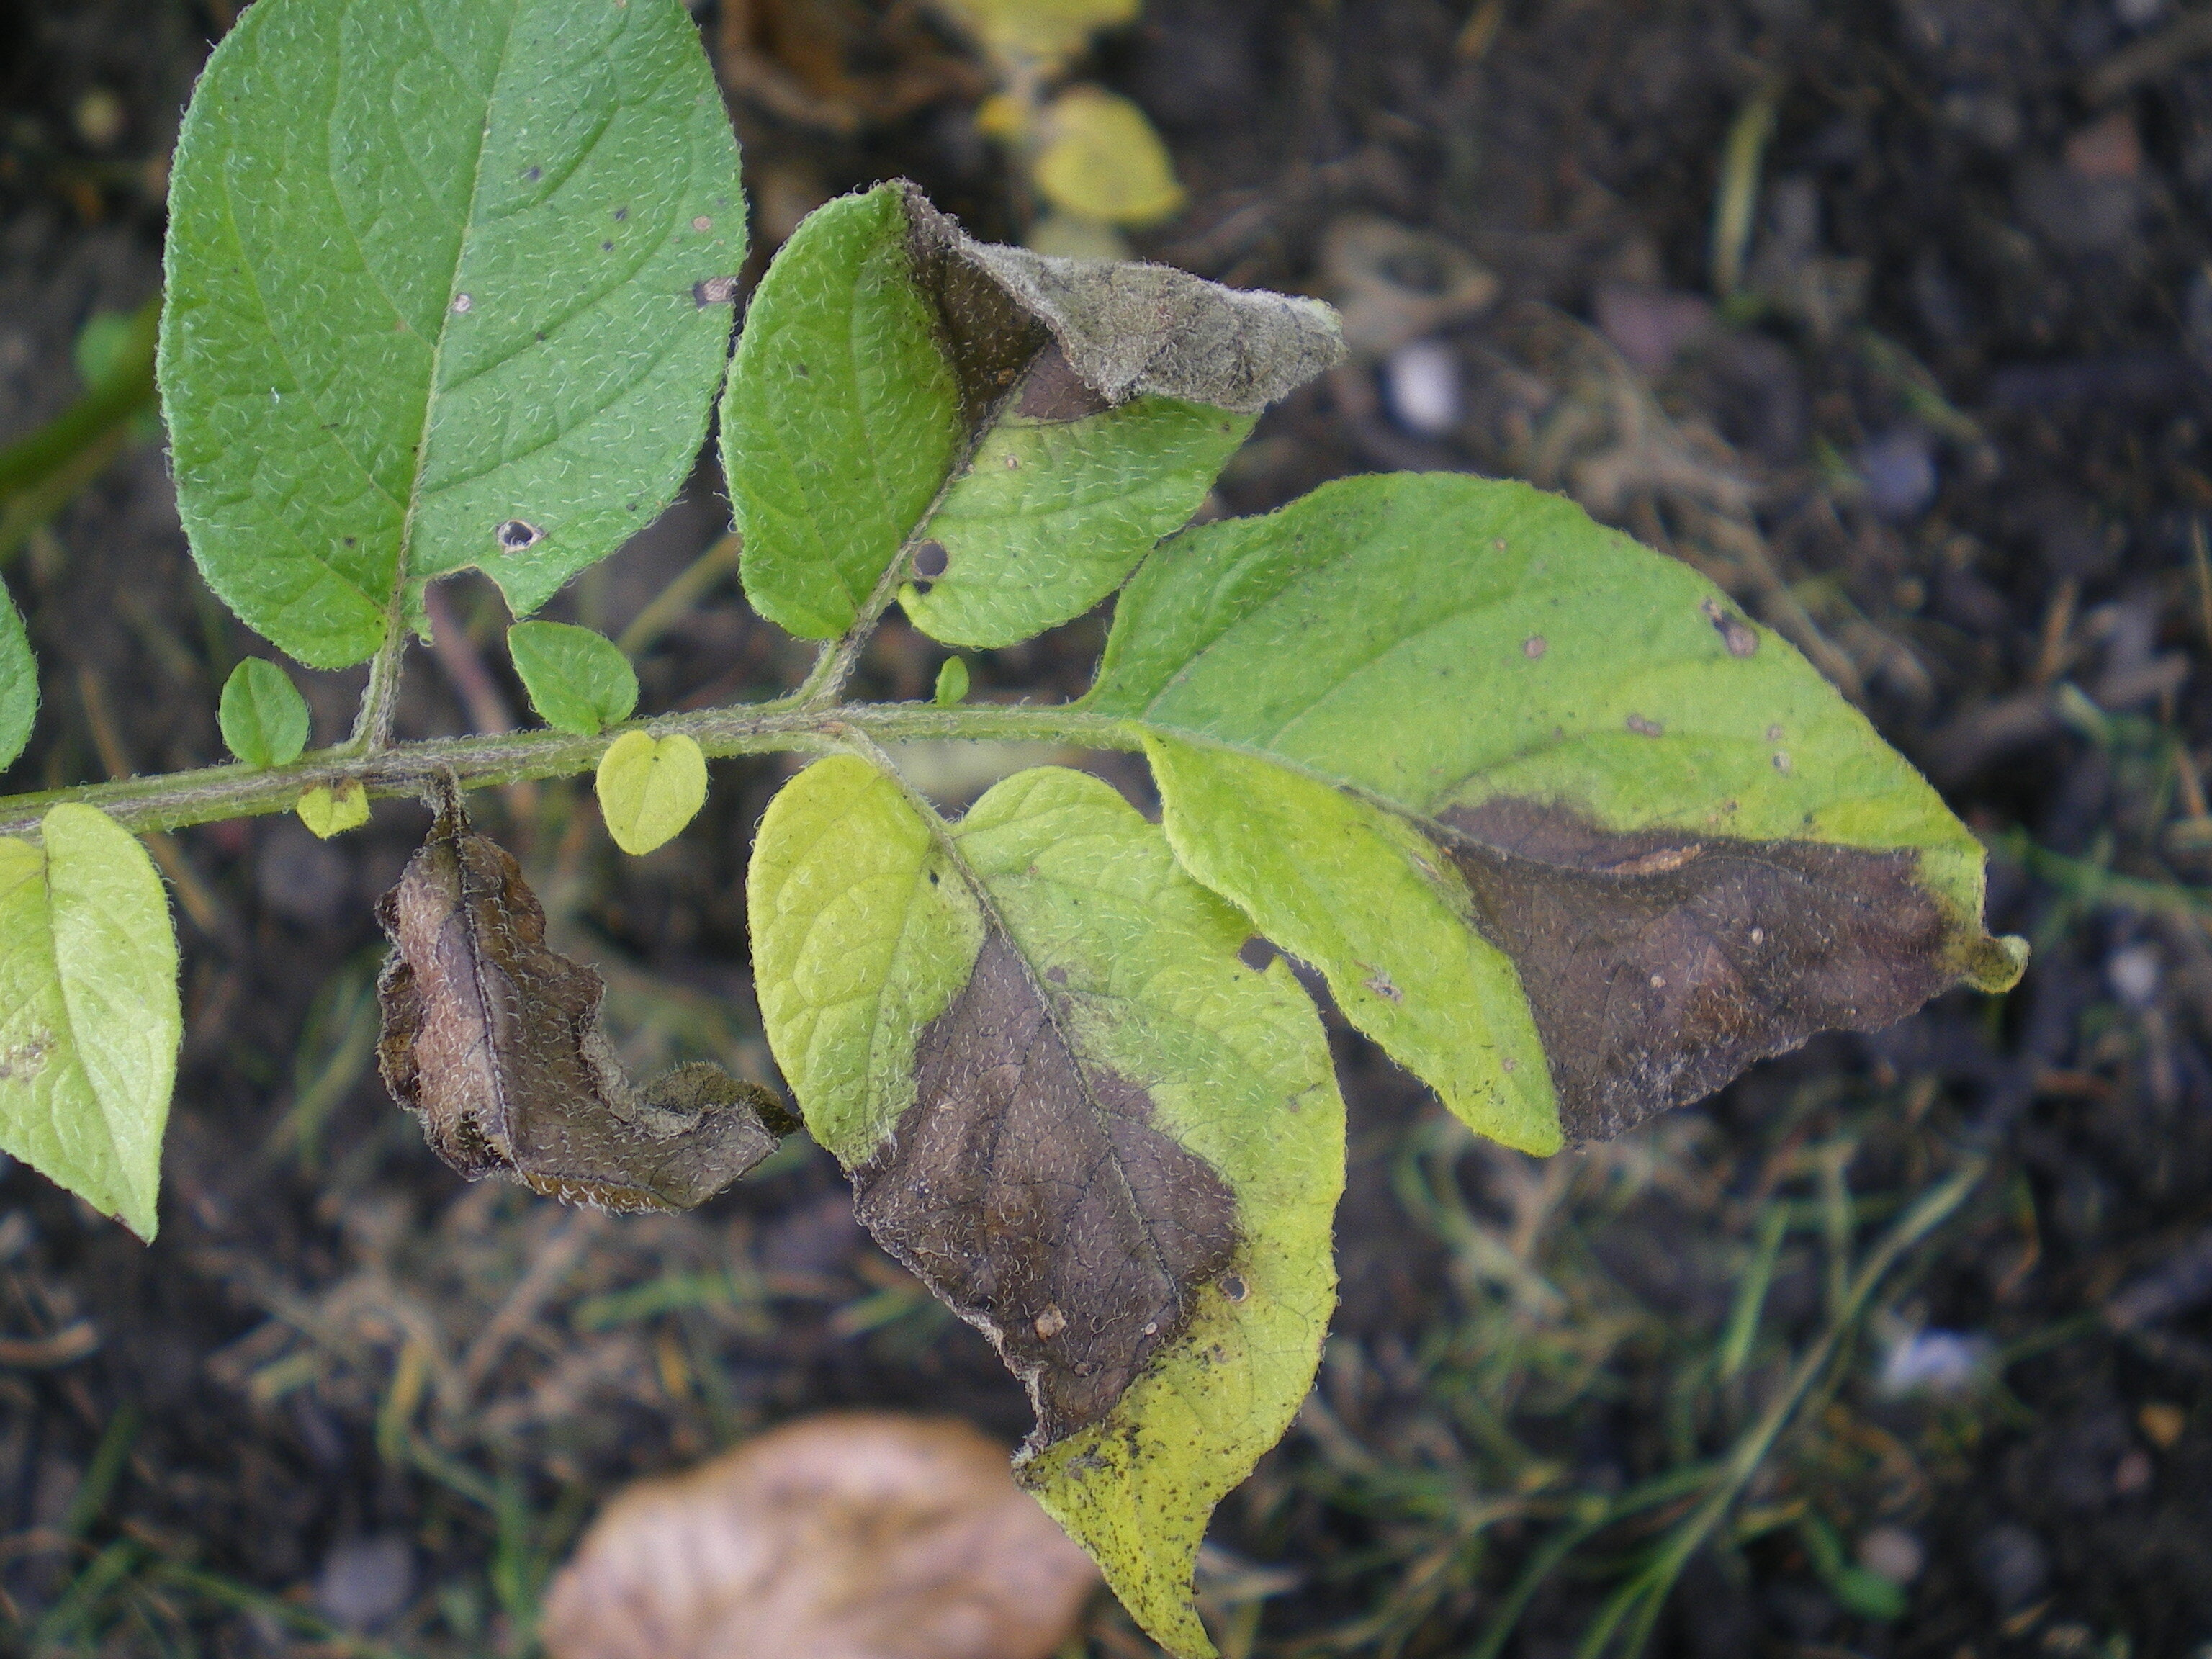potato_leaf: (1096, 453, 2047, 1162), (745, 755, 1306, 1656), (719, 176, 1353, 664), (496, 620, 641, 730), (597, 728, 712, 852), (206, 657, 308, 762)
